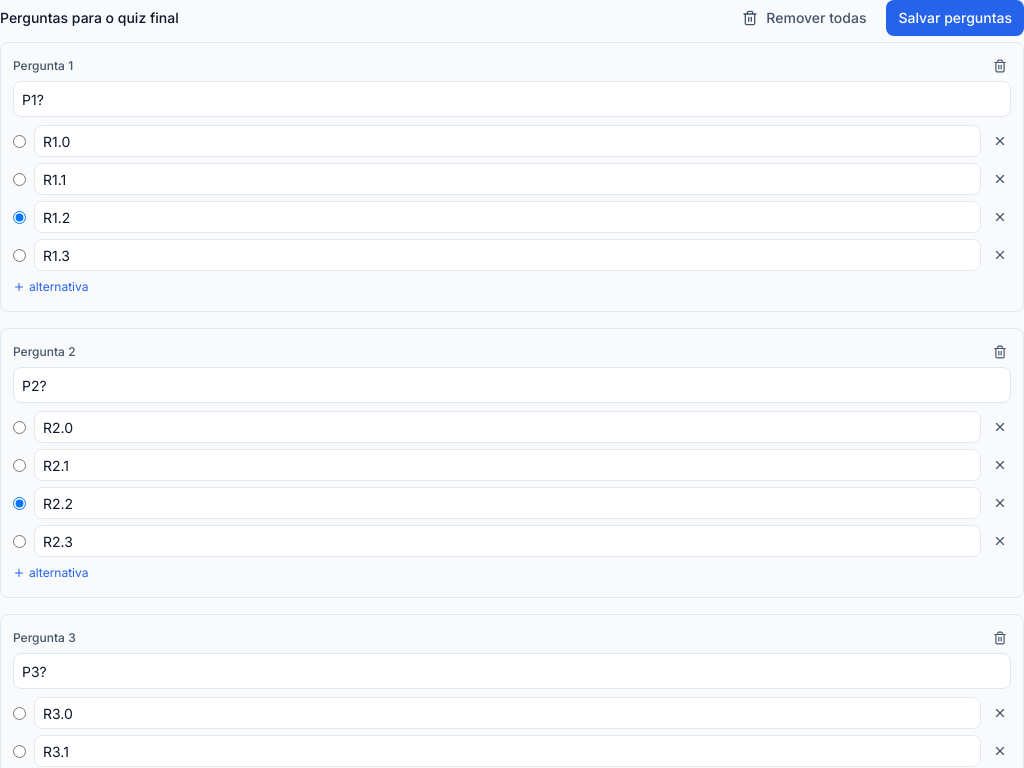
EditorQuiz › remover manda lista vazia
Step 1. Click the button "Remover todas" → (804, 18), box [730,0,878,36]
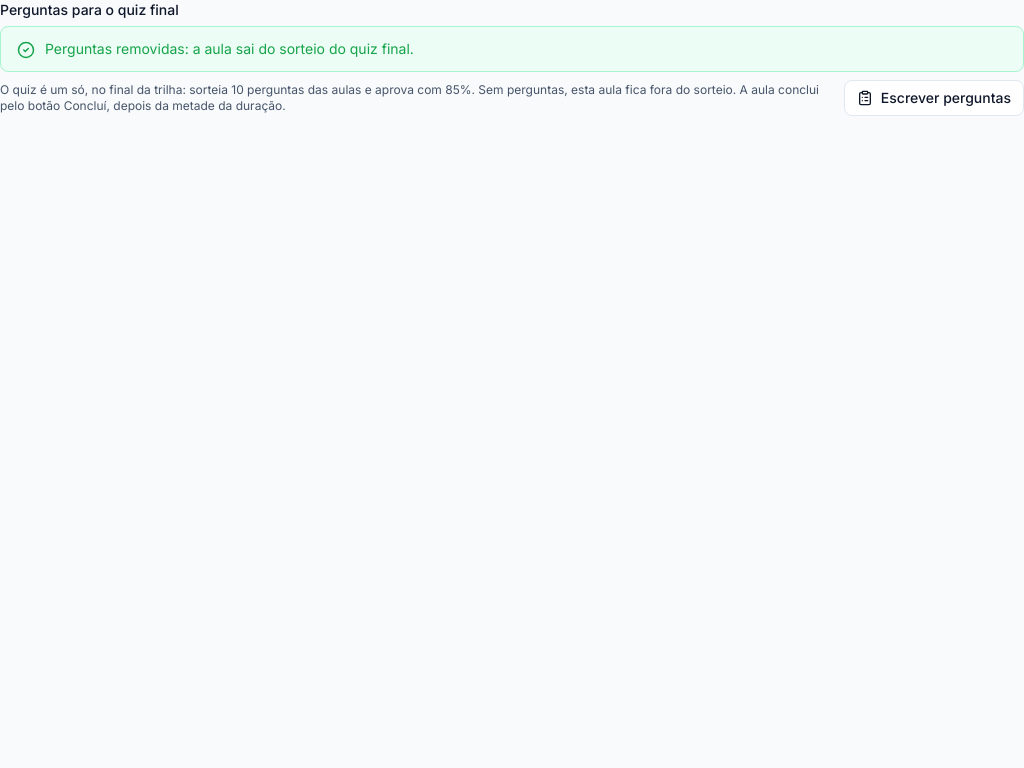
Expected: the text "Perguntas removidas: a aula sai do sorteio do quiz final." is shown, [45,40,414,57]
